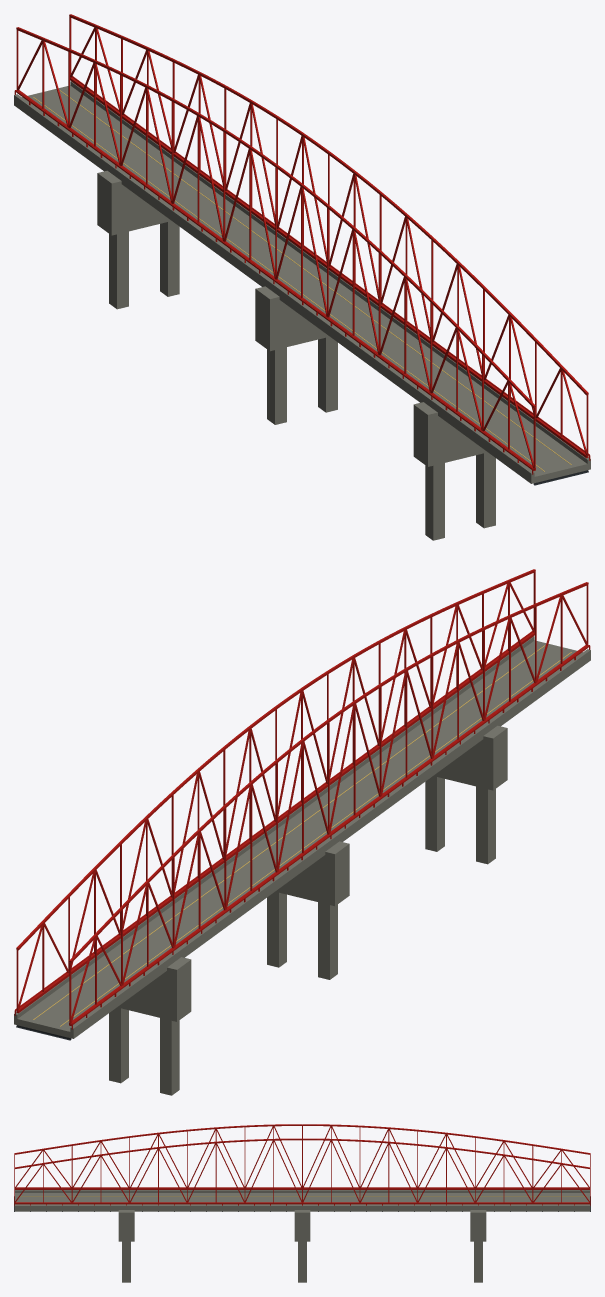
Rendered from red_bridge.obj.
3 renders of one model, top to bottom at view 1: azimuth 30°, elevation 25°; view 2: azimuth 150°, elevation 25°; view 3: azimuth 270°, elevation 25°, orthographic. The views are drawn at different scales.
Parts seen in each view (by area): view 1: RedBridge_MainStructure; view 2: RedBridge_MainStructure; view 3: RedBridge_MainStructure.
Boxes of the visible parts, box(x1,y1,x2,y2) form: RedBridge_MainStructure: box(14, 14, 590, 540); RedBridge_MainStructure: box(14, 569, 590, 1095); RedBridge_MainStructure: box(14, 1124, 590, 1282).
Size of the model in its own units: 16 by 49.21 by 180.
